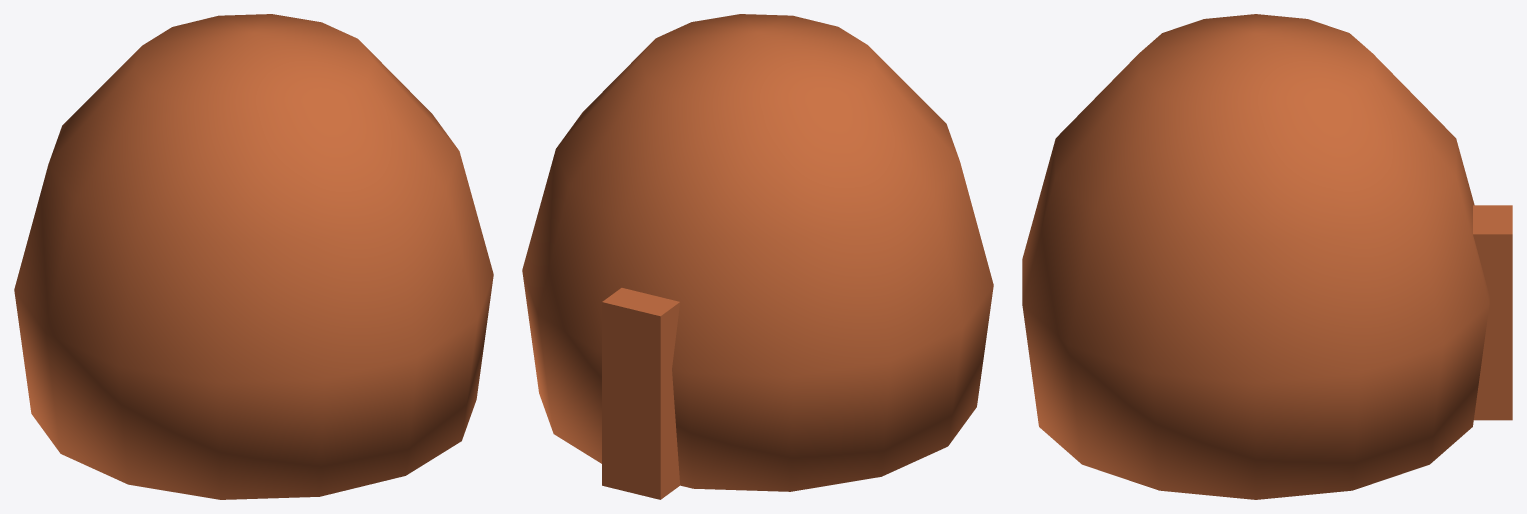
Rendered from copper_helmet.glb.
3 views of the same model, side by side, from view 1: azimuth 30°, elevation 25°; view 2: azimuth 150°, elevation 25°; view 3: azimuth 270°, elevation 25° (orthographic).
Visible parts, largest first — view 1: copper_helmet_v0; view 2: copper_helmet_v0; view 3: copper_helmet_v0.
Part boxes in pixels (left/top/right/bottom): copper_helmet_v0: left=14, top=14, right=493, bottom=499; copper_helmet_v0: left=522, top=14, right=993, bottom=499; copper_helmet_v0: left=1022, top=14, right=1512, bottom=499.
Bounding box in the file's own units: 0.28 × 0.24 × 0.2865.
